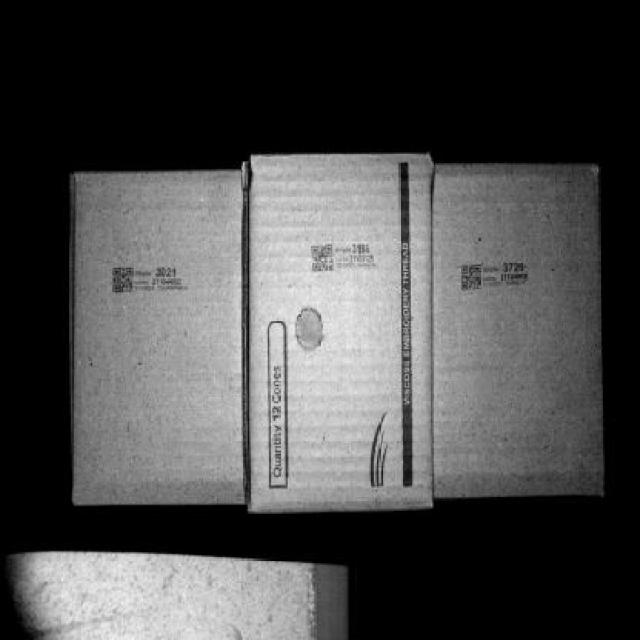cardboxes: (254, 157, 432, 511), (76, 171, 250, 491), (435, 157, 600, 491), (244, 283, 251, 428)
